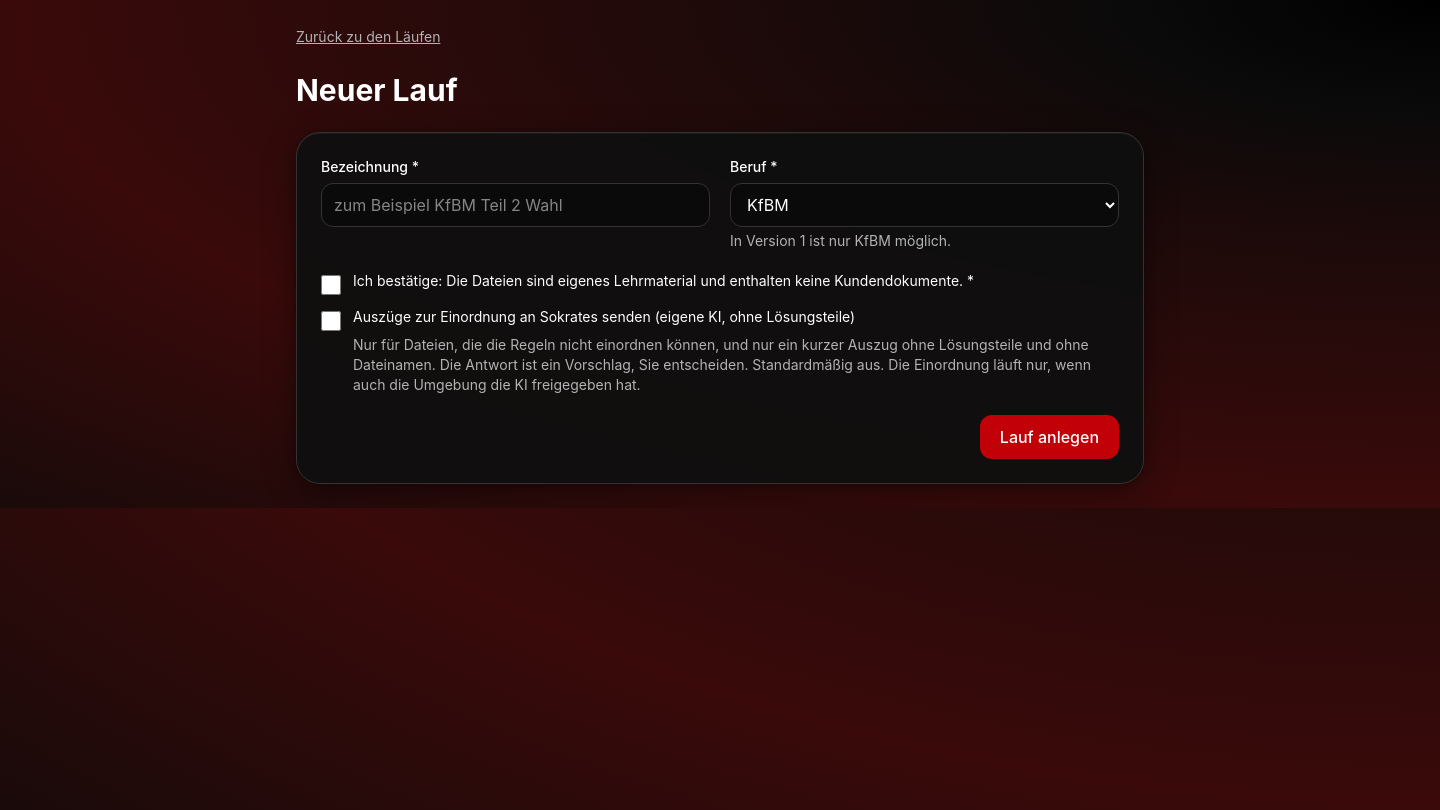
Test: NewRunForm › tells in words what went wrong (0)
In the field labelled "Bezeichnung *": (516, 205) [321, 183, 710, 227], type "Lauf"
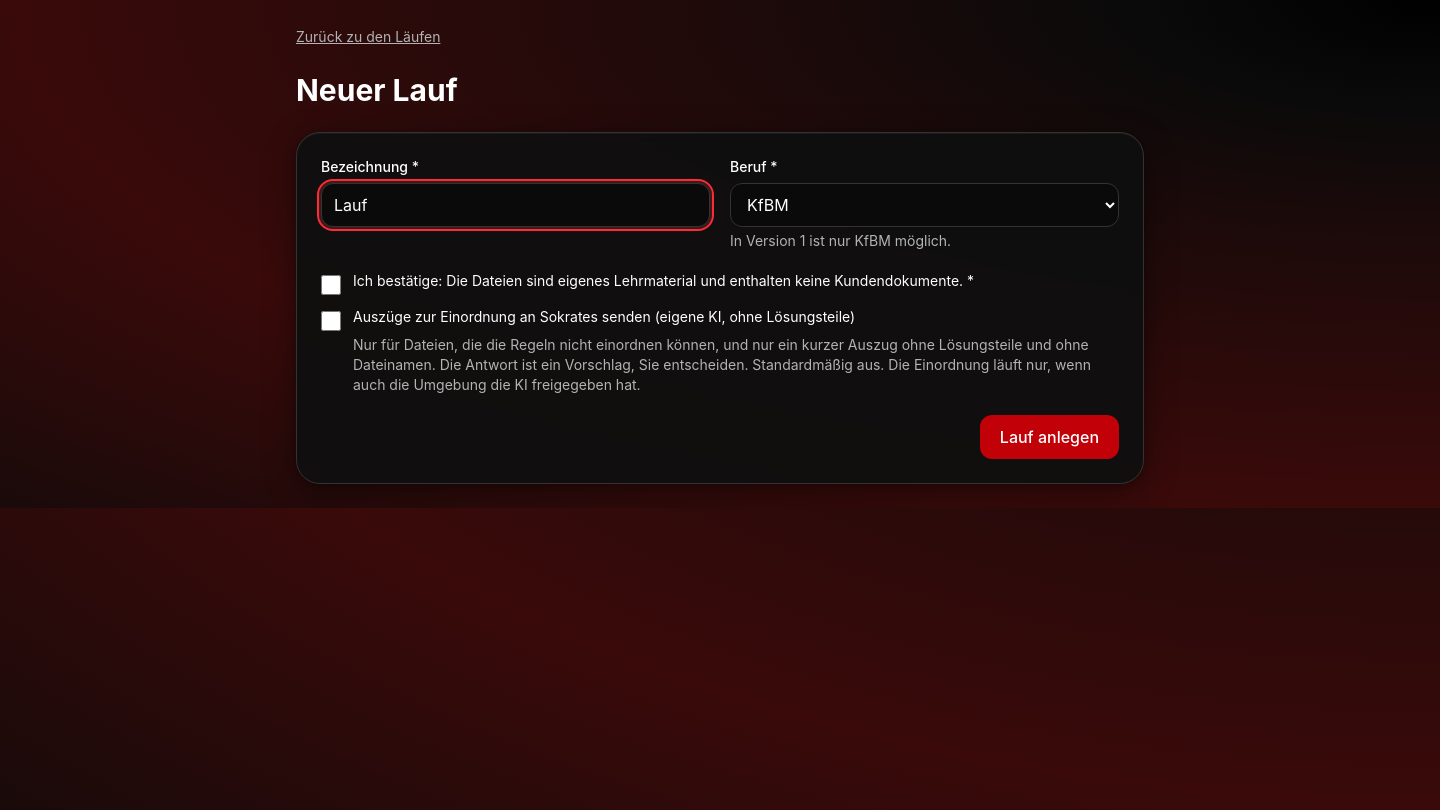
Click the checkbox labelled "eigenes Lehrmaterial": (331, 285) [321, 275, 341, 295]
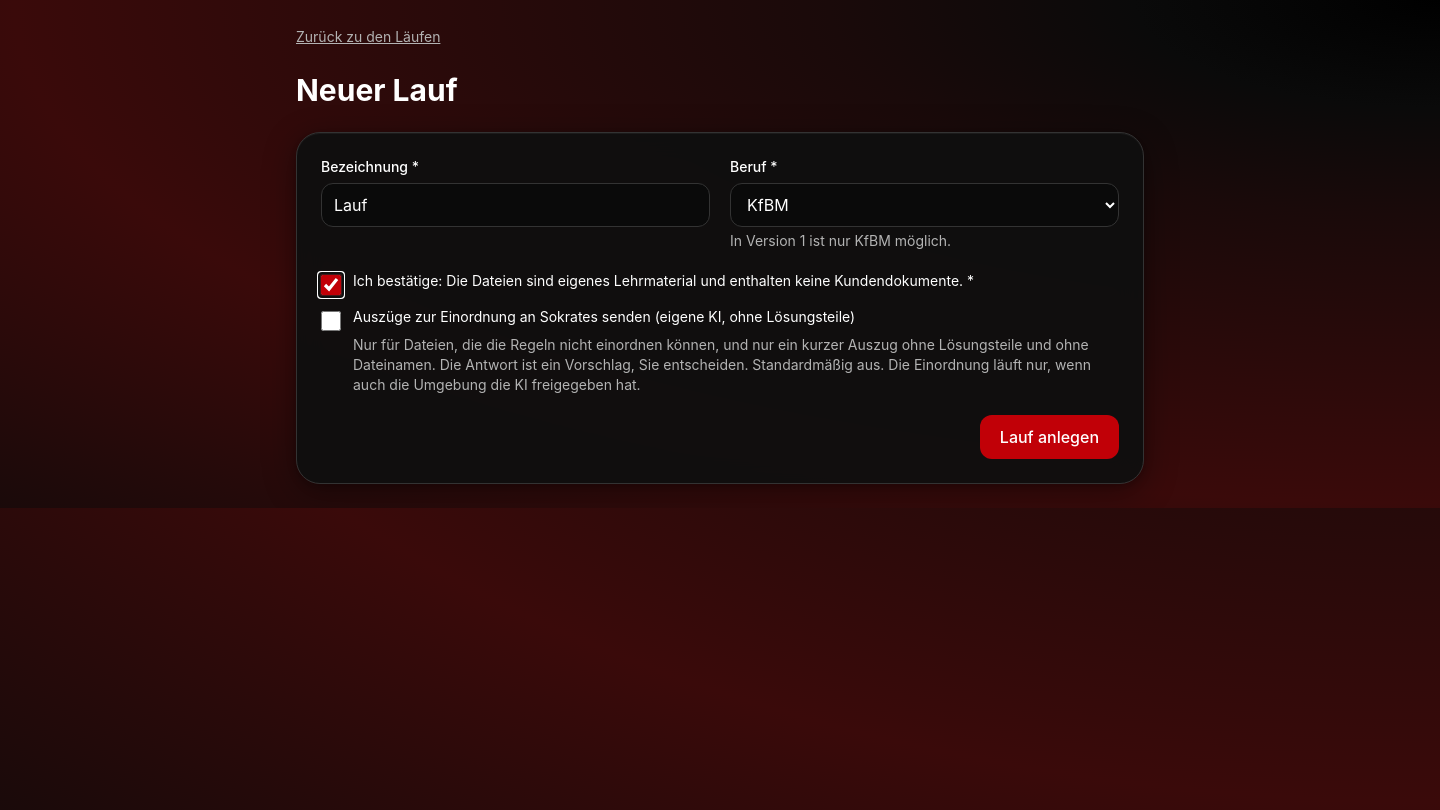
Click the button "Lauf anlegen": (1049, 437) [980, 415, 1119, 459]
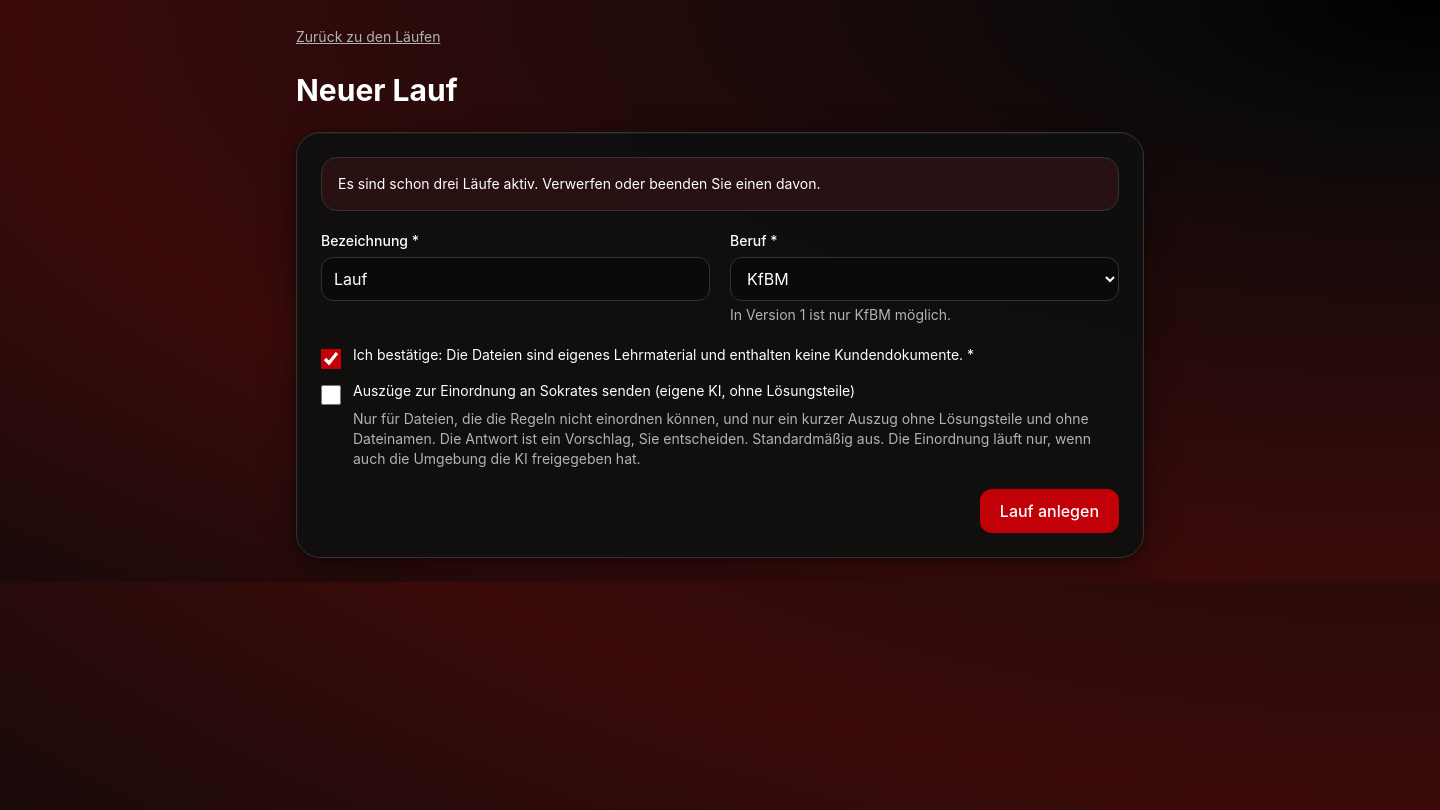
expect the button "Lauf anlegen" is enabled: met, box [980, 489, 1119, 533]
expect the message shows "schon drei Läufe aktiv": met, box [338, 175, 820, 192]
